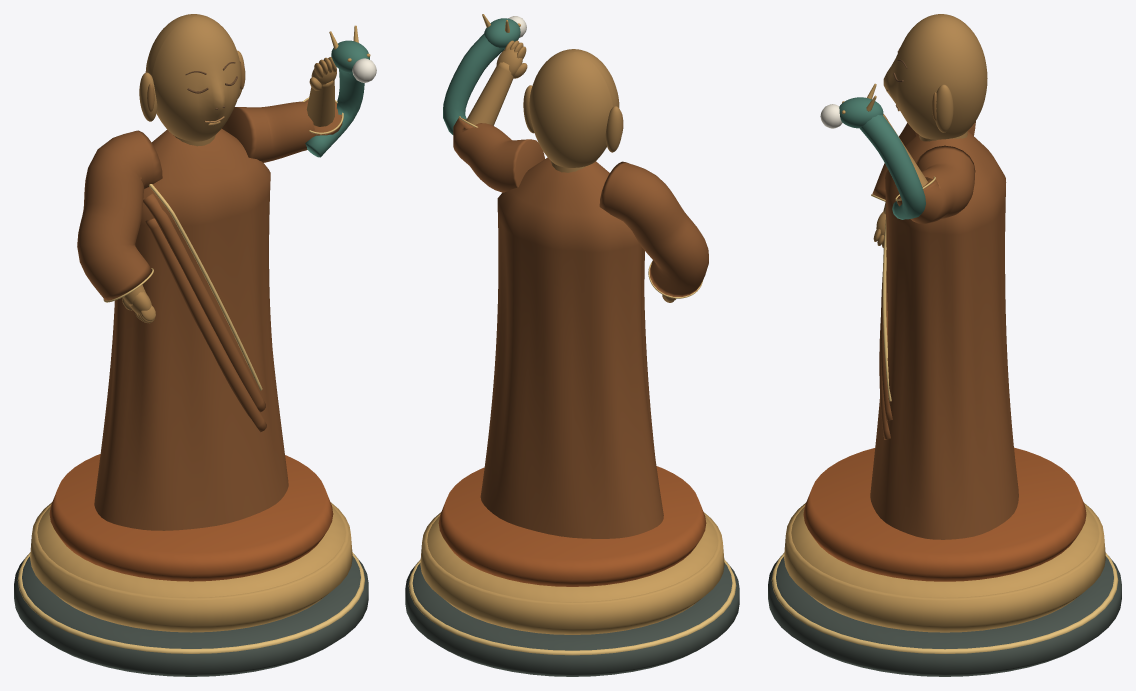
Rendered from arhat_01.glb.
The picture shows the model from 3 angles, left to right: view 1: azimuth 30°, elevation 25°; view 2: azimuth 150°, elevation 25°; view 3: azimuth 270°, elevation 25°; orthographic projection. The views are drawn at different scales.
Parts seen in each view (by area): view 1: arhat_01_ArhatDrapery, arhat_01_AntiqueGold, arhat_01_SaffronDrapery, arhat_01_CarvedPlinth, arhat_01_WarmBronze, arhat_01_RaisedGoldBorders, arhat_01_JadeAccents; view 2: arhat_01_ArhatDrapery, arhat_01_AntiqueGold, arhat_01_SaffronDrapery, arhat_01_CarvedPlinth, arhat_01_WarmBronze, arhat_01_JadeAccents, arhat_01_RaisedGoldBorders; view 3: arhat_01_ArhatDrapery, arhat_01_SaffronDrapery, arhat_01_AntiqueGold, arhat_01_CarvedPlinth, arhat_01_WarmBronze, arhat_01_JadeAccents, arhat_01_RaisedGoldBorders.
Boxes of the visible parts, box(x1,y1,x2,y2) form: arhat_01_ArhatDrapery: box(77, 99, 342, 530); arhat_01_AntiqueGold: box(30, 25, 370, 632); arhat_01_SaffronDrapery: box(49, 454, 333, 581); arhat_01_CarvedPlinth: box(14, 554, 368, 676); arhat_01_WarmBronze: box(122, 14, 336, 323); arhat_01_RaisedGoldBorders: box(17, 97, 364, 653); arhat_01_JadeAccents: box(305, 40, 369, 157); arhat_01_ArhatDrapery: box(453, 118, 708, 538); arhat_01_AntiqueGold: box(420, 14, 724, 634); arhat_01_SaffronDrapery: box(438, 466, 706, 586); arhat_01_CarvedPlinth: box(405, 562, 739, 676); arhat_01_WarmBronze: box(466, 40, 675, 302); arhat_01_JadeAccents: box(443, 18, 520, 134); arhat_01_RaisedGoldBorders: box(408, 116, 736, 655); arhat_01_ArhatDrapery: box(870, 121, 1018, 539); arhat_01_SaffronDrapery: box(803, 447, 1086, 581); arhat_01_AntiqueGold: box(784, 83, 1105, 632); arhat_01_CarvedPlinth: box(768, 556, 1121, 676); arhat_01_WarmBronze: box(873, 14, 987, 247); arhat_01_JadeAccents: box(839, 97, 925, 219); arhat_01_RaisedGoldBorders: box(771, 176, 1118, 653).
Bounding box in the file's own units: 0.92 × 1.69 × 0.92.
